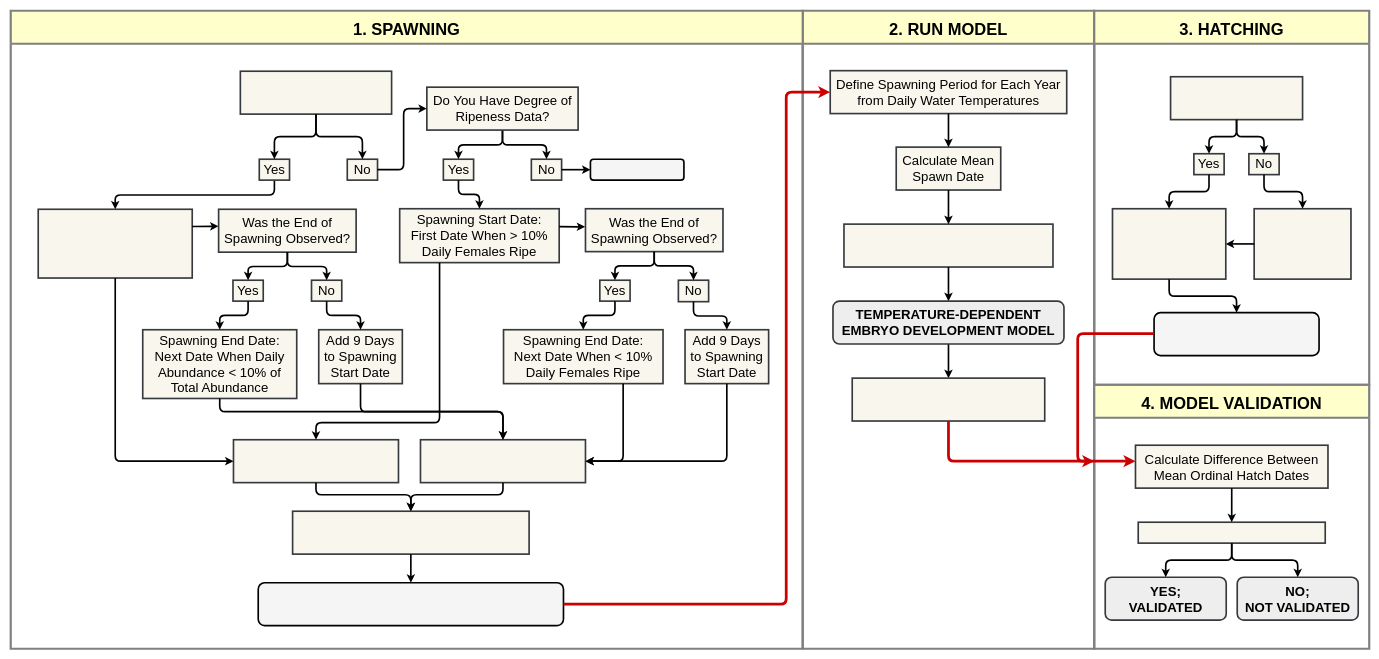
The diagram is 1379 pixels wide and 659 high, and some of its shapes have lost their labels. Here are the shapes that lost their labels. From the top down, the centre of each, then its label:
At point 315,92: "Do You Have Spawner Abundance Data?".
At point 1236,98: "Was the Start of Hatching Observed?".
At point 636,169: "TERMINATE".
At point 115,243: "Spawning Start Date: First Date When Daily Abundance > 10% of Total Abundance".
At point 948,245: "Subset Daily Water Temperatures to Start on Mean Spawn Date".
At point 1168,244: "Weighted Mean Ordinal Hatch Date Based on Daily Abundance".
At point 1302,244: "Back-calculate Hatch Dates from Individual Lengths".
At point 1236,334: "OBSERVED MEAN ORDINAL HATCH DATE".
At point 948,399: "Calculate Mean Ordinal Hatch Date from Model Output".
At point 315,461: "Mean Start Spawning Ordinal Date Across Years".
At point 502,461: "Mean End Spawning Ordinal Date Across Years".
At point 411,532: "Extract Lakebed Water Temperatures on Dates & Average Across Years".
At point 1231,532: "Is Difference Within ±7 Days?".
At point 410,604: "CONTEMPORARY MEAN SPAWNING START AND END WATER TEMPERATURES".
